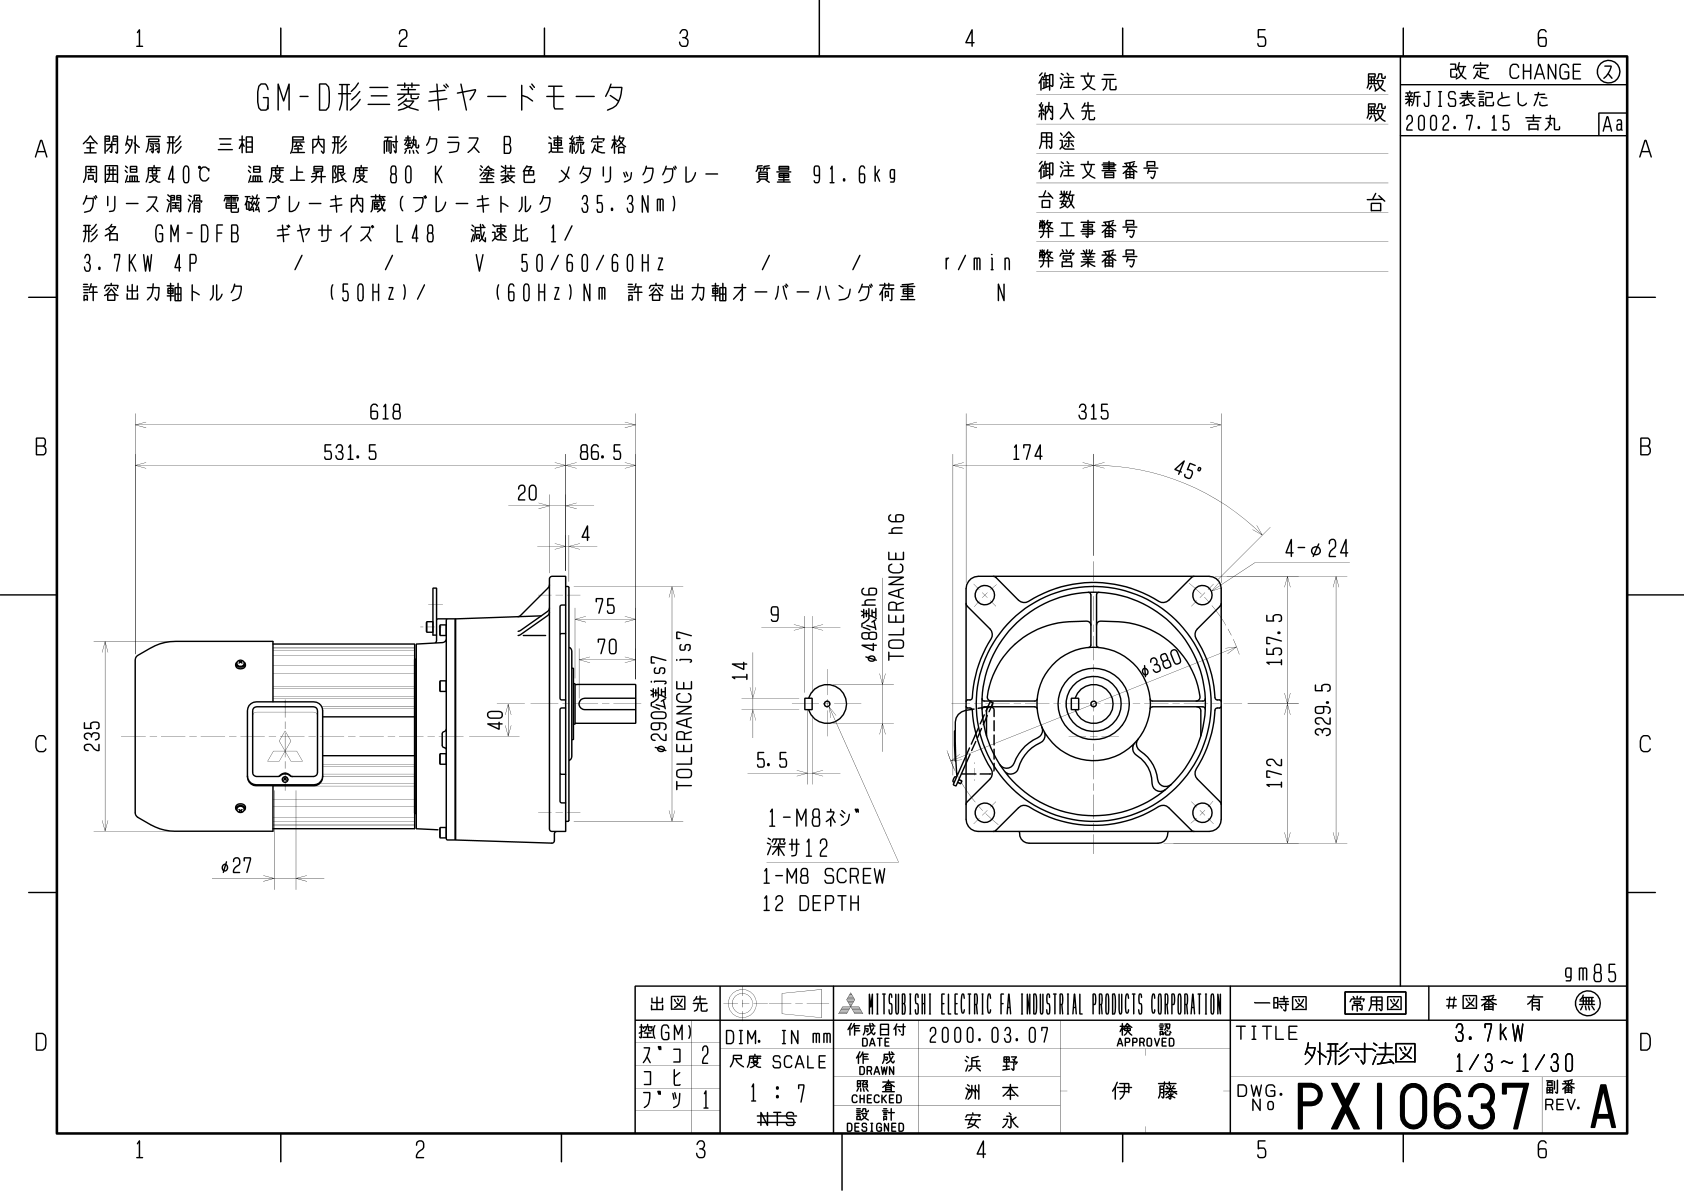GM_D_屋内＿三相_フランジ: (1, 1, 1667, 1173)
